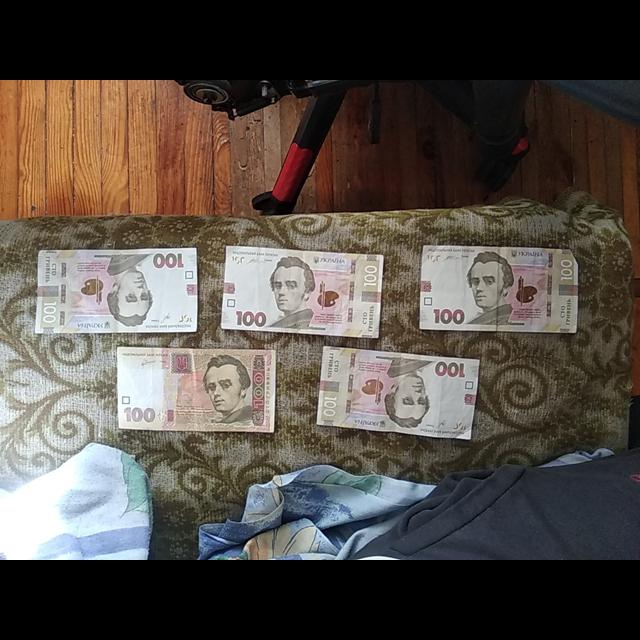100uah: (318, 346, 482, 439), (222, 245, 382, 338), (418, 244, 581, 334), (35, 249, 198, 334), (115, 346, 274, 432)
